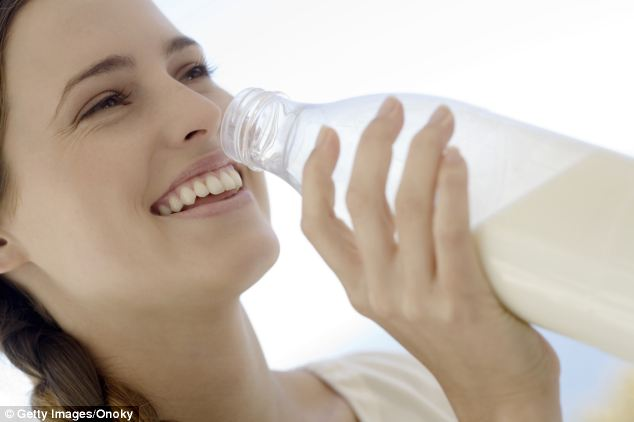glass of milk: (365, 94, 634, 360)
